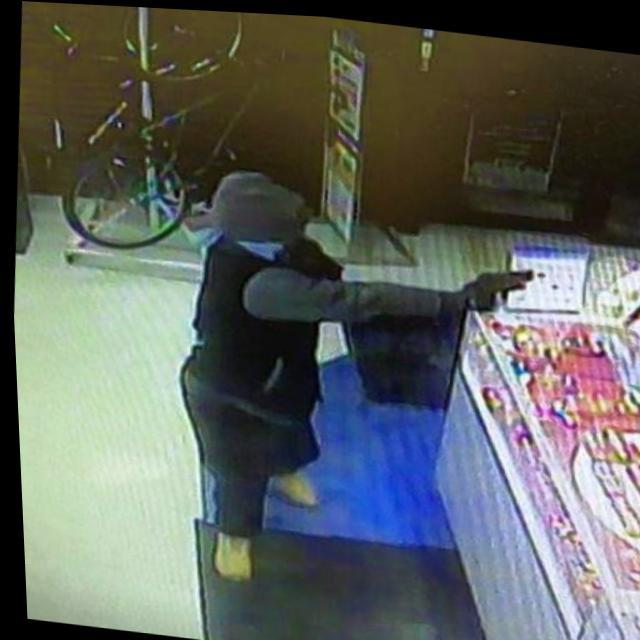weapon: (468, 260, 542, 314)
